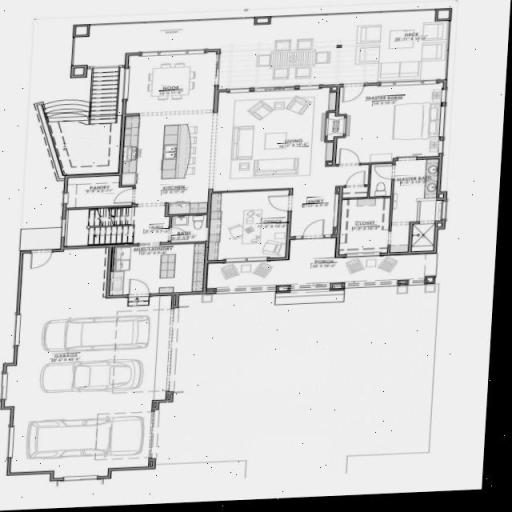Room: (342, 182, 436, 264), (346, 94, 434, 166), (224, 189, 284, 263), (133, 58, 211, 111)
bathroom: (175, 218, 206, 242)
garage: (28, 250, 155, 466)
hall: (220, 97, 325, 189)
kitchen: (137, 115, 204, 210)
porch: (85, 25, 437, 75), (214, 257, 447, 290)
